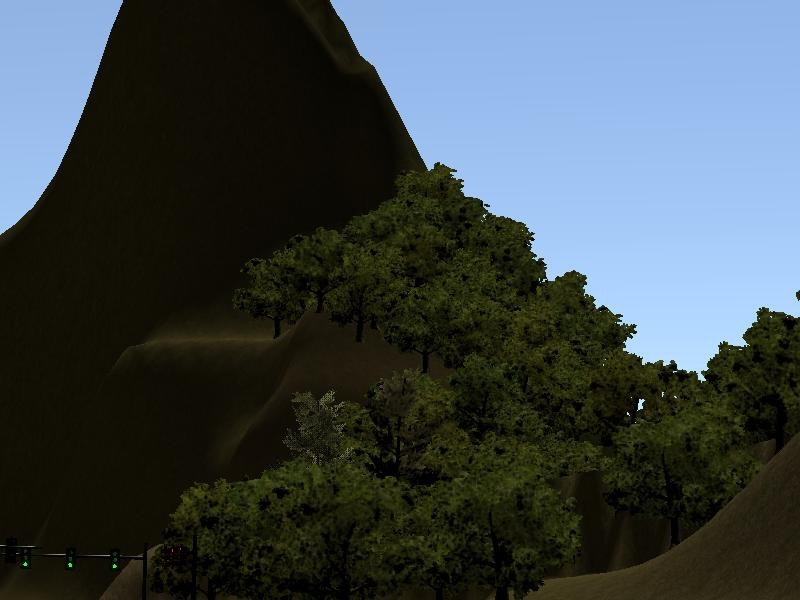GREEN: (62, 543, 80, 578), (17, 536, 33, 575), (107, 542, 123, 579)
